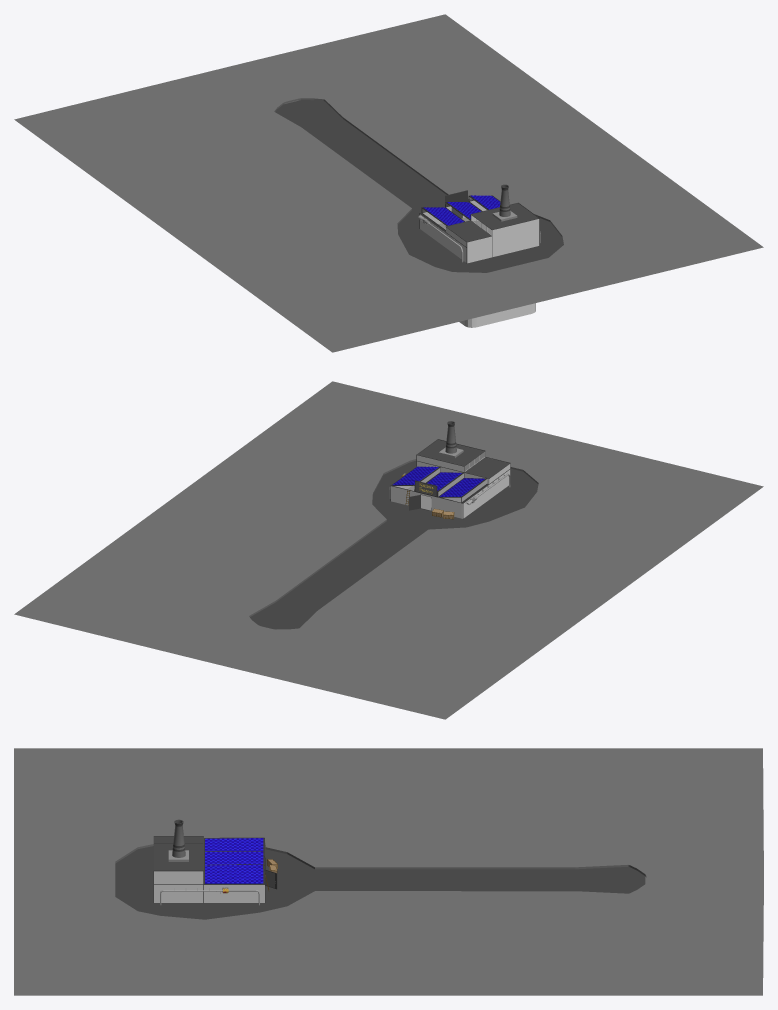
File: new_factory.fbx
3 views of the same model, one above another, from view 1: azimuth 30°, elevation 25°; view 2: azimuth 150°, elevation 25°; view 3: azimuth 270°, elevation 25° (orthographic). The views are drawn at different scales.
Parts seen in each view (by area): view 1: Plane.165, Plane.198, floor_-1.001; view 2: Plane.165, Plane.198; view 3: Plane.165, Plane.198, sun_panels, sun_panels.002, sun_panels.001.
Boxes of the visible parts, left/top/right/bottom form: Plane.165: left=14, top=14, right=763, bottom=352; Plane.198: left=419, top=195, right=539, bottom=263; floor_-1.001: left=459, top=303, right=535, bottom=327; Plane.165: left=14, top=381, right=763, bottom=719; Plane.198: left=390, top=439, right=510, bottom=518; Plane.165: left=14, top=748, right=763, bottom=995; Plane.198: left=153, top=836, right=265, bottom=903; sun_panels: left=205, top=864, right=263, bottom=883; sun_panels.002: left=205, top=838, right=263, bottom=851; sun_panels.001: left=205, top=851, right=263, bottom=864.
Bounding box in the file's own units: 8561 × 2325 × 10962.
